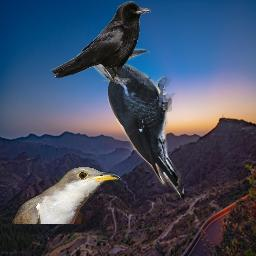Crow: (50, 1, 151, 84)
Cuckoo: (12, 166, 121, 224)
Woodpecker: (83, 43, 184, 199)
